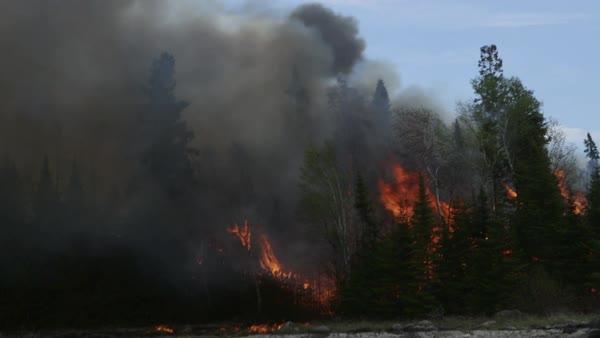smoke: (2, 0, 465, 265)
